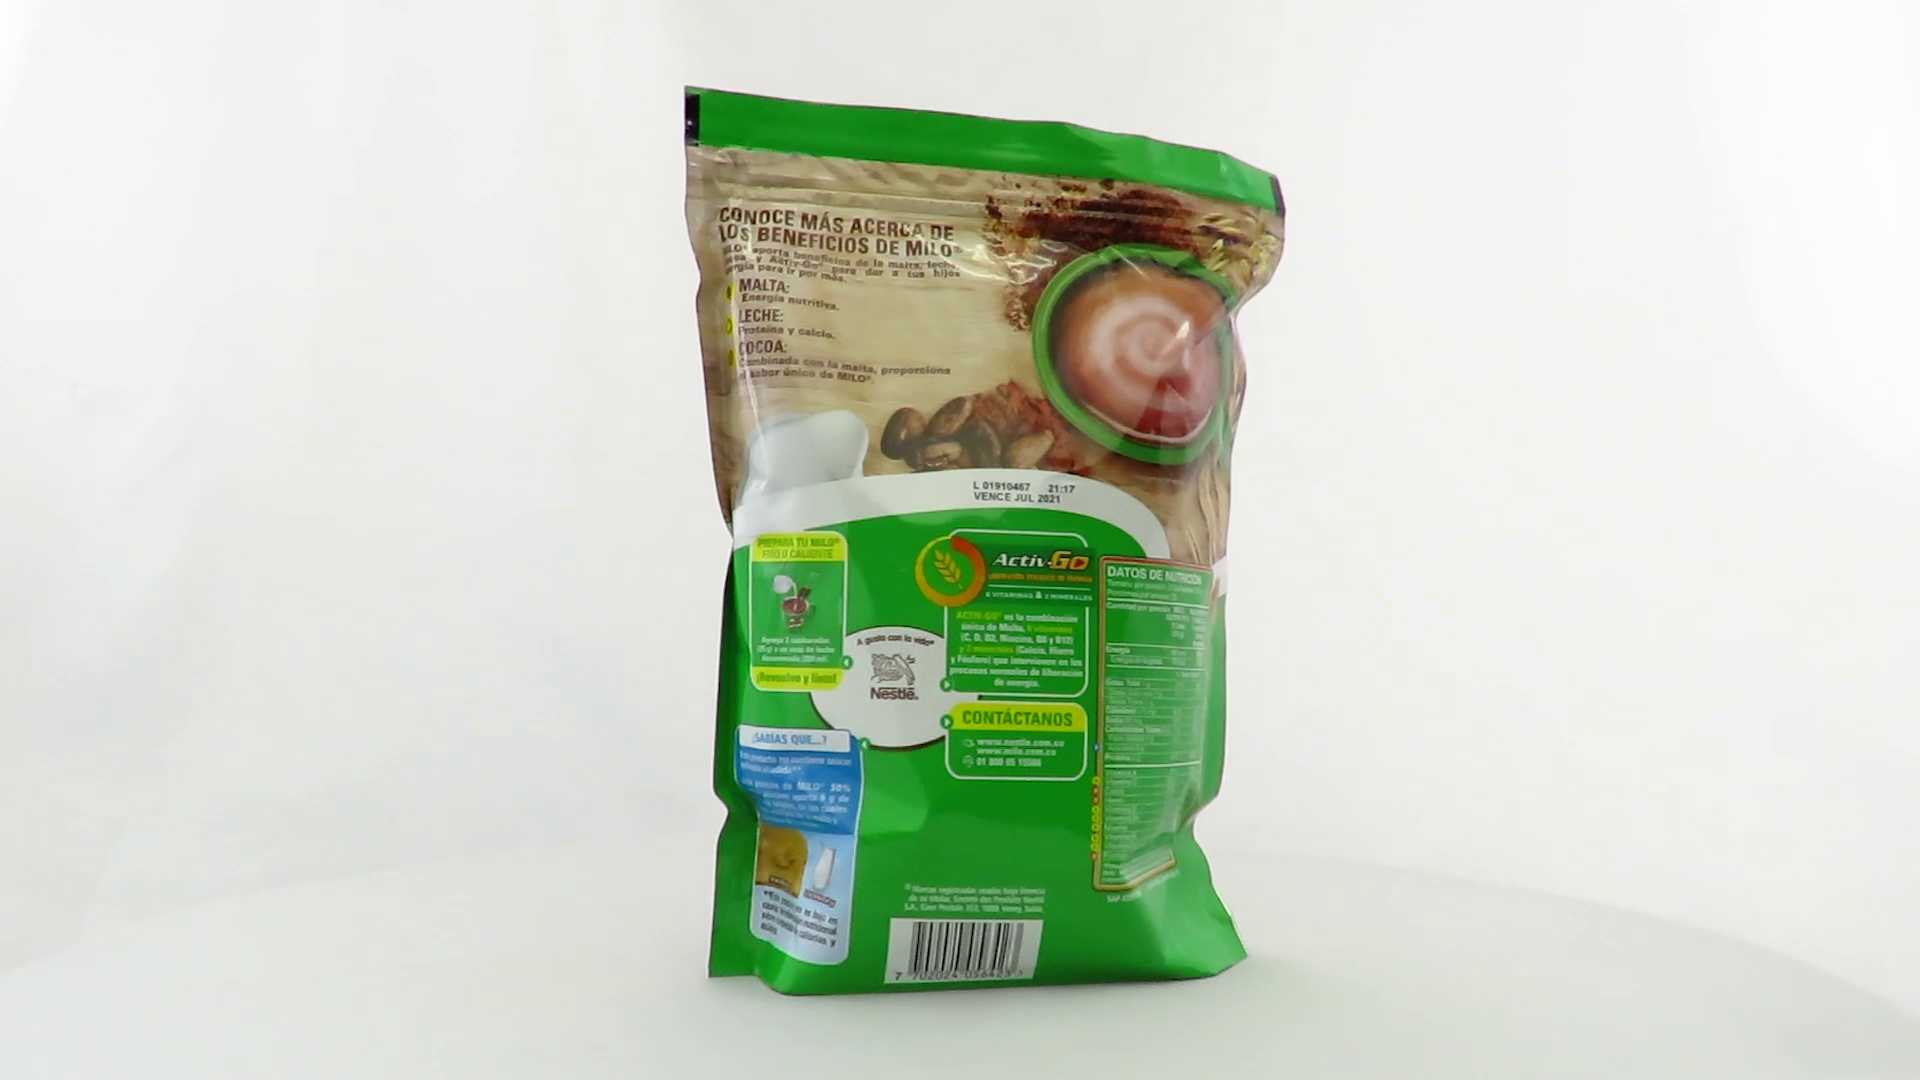COL0170205DYP50000: (679, 80, 1292, 1004)
